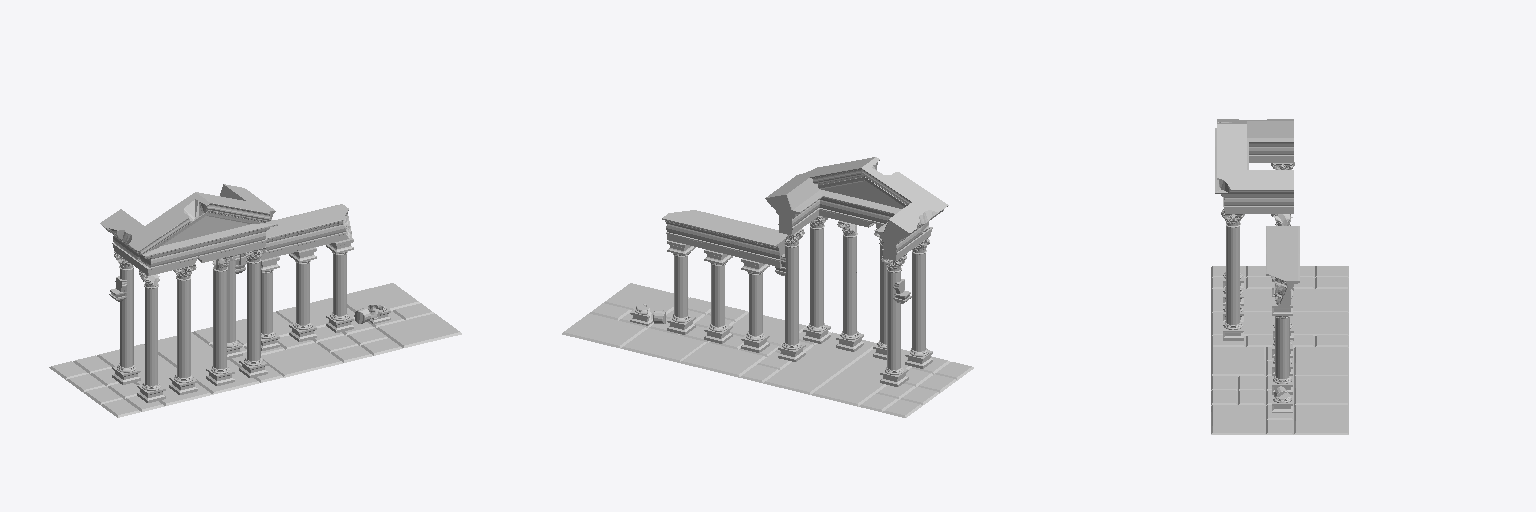
Rendered from SmallSetupRuins.obj.
The picture shows the model from 3 angles: view 1: azimuth 30°, elevation 25°; view 2: azimuth 150°, elevation 25°; view 3: azimuth 270°, elevation 25°; orthographic projection.
Visible parts, largest first — view 1: Small_Setup, Small_Setup.009, Small_Setup.001, Small_Setup.008, Small_Setup.005, Small_Setup.006, Small_Setup.004, Small_Setup.007, Small_Setup.012, Small_Setup.011, Small_Setup.013, Small_Setup.003 (+1 smaller); view 2: Small_Setup, Small_Setup.009, Small_Setup.001, Small_Setup.008, Small_Setup.003, Small_Setup.004, Small_Setup.006, Small_Setup.007, Small_Setup.012, Small_Setup.011, Small_Setup.013, Small_Setup.005 (+1 smaller); view 3: Small_Setup, Small_Setup.009, Small_Setup.001, Small_Setup.006, Small_Setup.012.
Part boxes in pixels (bbox=[...]): Small_Setup: bbox=[49, 283, 461, 417]; Small_Setup.009: bbox=[100, 184, 277, 275]; Small_Setup.001: bbox=[239, 204, 351, 264]; Small_Setup.008: bbox=[109, 251, 140, 384]; Small_Setup.005: bbox=[169, 264, 197, 394]; Small_Setup.006: bbox=[239, 247, 267, 377]; Small_Setup.004: bbox=[206, 256, 234, 385]; Small_Setup.007: bbox=[137, 267, 165, 402]; Small_Setup.012: bbox=[326, 237, 353, 332]; Small_Setup.011: bbox=[289, 247, 316, 341]; Small_Setup.013: bbox=[261, 256, 279, 350]; Small_Setup.003: bbox=[227, 254, 245, 359]; Small_Setup: bbox=[562, 283, 973, 417]; Small_Setup.009: bbox=[765, 157, 948, 260]; Small_Setup.001: bbox=[662, 210, 787, 267]; Small_Setup.008: bbox=[880, 254, 911, 386]; Small_Setup.003: bbox=[775, 229, 805, 361]; Small_Setup.004: bbox=[836, 221, 863, 351]; Small_Setup.006: bbox=[803, 216, 830, 343]; Small_Setup.007: bbox=[905, 238, 932, 368]; Small_Setup.012: bbox=[667, 240, 695, 334]; Small_Setup.011: bbox=[704, 249, 732, 343]; Small_Setup.013: bbox=[741, 258, 769, 352]; Small_Setup.005: bbox=[873, 229, 887, 359]; Small_Setup: bbox=[1211, 266, 1348, 434]; Small_Setup.009: bbox=[1215, 119, 1293, 213]; Small_Setup.001: bbox=[1266, 226, 1299, 306]; Small_Setup.006: bbox=[1221, 209, 1244, 340]; Small_Setup.012: bbox=[1272, 297, 1292, 394].
Bounding box in the file's own units: 27.94 × 14.67 × 9.73.